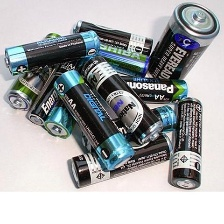battery: (50, 67, 138, 175), (80, 49, 163, 145), (67, 130, 174, 191), (146, 2, 219, 88), (4, 30, 67, 115), (78, 103, 183, 154), (2, 26, 102, 77), (25, 44, 82, 127), (42, 53, 93, 139), (66, 33, 151, 79), (68, 16, 157, 59), (168, 93, 205, 192), (90, 71, 191, 107)
